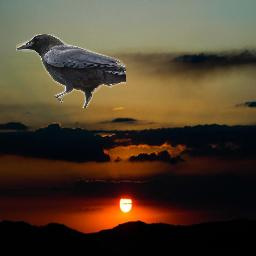Crow: (16, 34, 126, 108)
